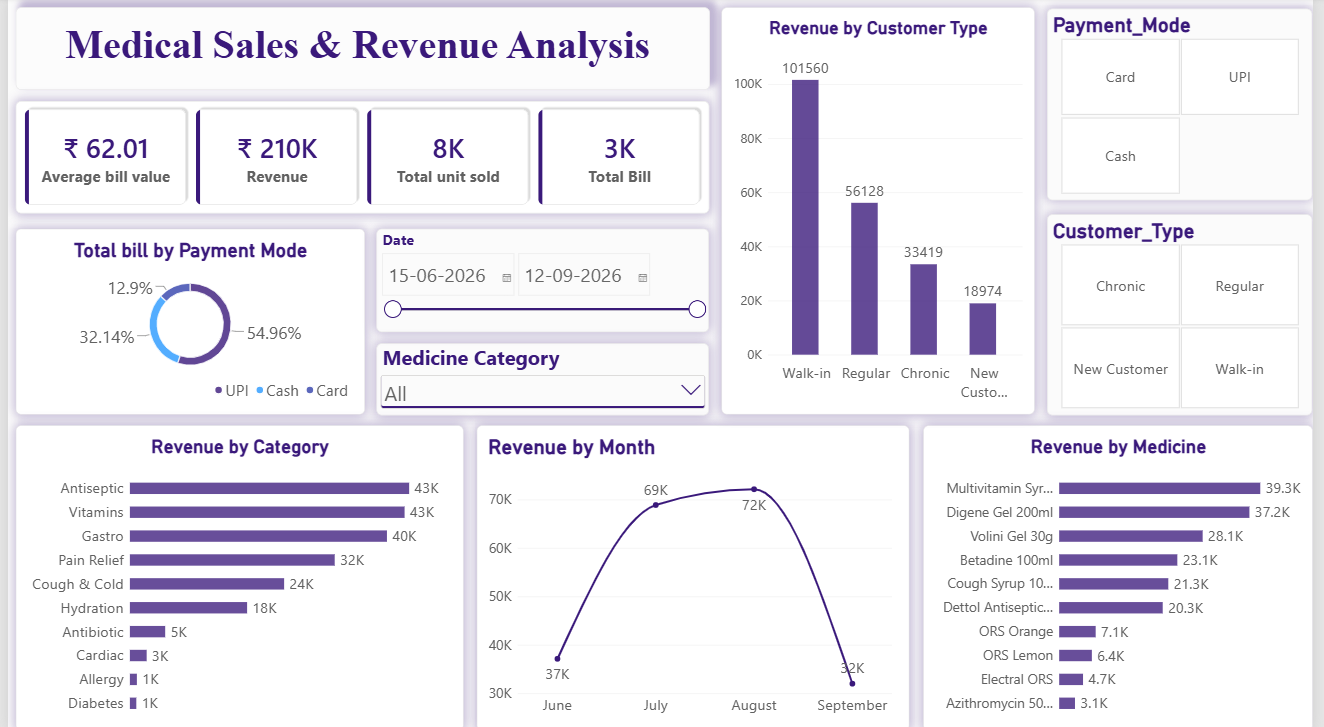

What the dashboard file says about the page in this screenshot:
{"tool":"powerbi","page":{"name":"Page 1","canvas":[1920,1080],"ordinal":0},"visuals":[{"type":"textbox","box":[11,15.4,1021.3,121.1],"z":0},{"type":"cardVisual","fields":{"Data":["public medicaldata.Average bill value","public medicaldata.Revenue","public medicaldata.total unit sold","public medicaldata.Total bills"]},"box":[11,154.3,1020.3,165.3],"z":1000},{"type":"slicer","fields":{"Values":["public medicaldata.Category"]},"box":[542.1,509.1,489.2,105.8],"z":2000},{"type":"slicer","fields":{"Values":["public medicaldata.Customer_Type"]},"box":[1529.4,319.5,390.1,295.3],"z":3000},{"type":"slicer","fields":{"Values":["public medicaldata.Payment_Mode"]},"box":[1529.4,17.6,390.1,282.1],"z":4000},{"type":"barChart","title":"Revenue by Medicine","fields":{"Category":["public medicaldata.Medicine_Name"],"Y":["public medicaldata.Revenue"]},"box":[1346.5,630.3,573,449.6],"z":5000},{"type":"lineChart","title":"Revenue by Month","fields":{"Category":["public medicaldata.Month"],"Y":["public medicaldata.Revenue"]},"box":[689.8,630.3,636.9,449.6],"z":6000},{"type":"donutChart","title":"Total bill by Payment Mode","fields":{"Category":["public medicaldata.Payment_Mode"],"Y":["public medicaldata.Total bills"]},"box":[11,341.6,513.5,273.3],"z":7000},{"type":"columnChart","title":"Revenue by Customer Type","fields":{"Category":["public medicaldata.Customer_Type"],"Y":["public medicaldata.Revenue"]},"box":[1051.2,15.4,460.6,599.4],"z":8000},{"type":"barChart","fields":{"Category":["public medicaldata.Category"],"Y":["public medicaldata.Revenue"]},"box":[11,630.3,658.9,449.6],"z":9000},{"type":"slicer","fields":{"Values":["public medicaldata.date_only"]},"box":[542.1,341.6,489.2,152.1],"z":10000}]}

Visuals, with their boxes in screenshot pixels (x1, y1, x2, y2), scaled from the page's 1920x1080 canvas onto the 1324x727 screenshot:
textbox: region(8, 10, 712, 92)
cardVisual - public medicaldata.Average bill value x public medicaldata.Revenue: region(8, 104, 711, 215)
slicer - public medicaldata.Category: region(374, 343, 711, 414)
slicer - public medicaldata.Customer_Type: region(1055, 215, 1323, 414)
slicer - public medicaldata.Payment_Mode: region(1055, 12, 1323, 202)
"Revenue by Medicine" barChart: region(929, 424, 1323, 726)
"Revenue by Month" lineChart: region(476, 424, 915, 726)
"Total bill by Payment Mode" donutChart: region(8, 230, 362, 414)
"Revenue by Customer Type" columnChart: region(725, 10, 1043, 414)
barChart - public medicaldata.Category x public medicaldata.Revenue: region(8, 424, 462, 726)
slicer - public medicaldata.date_only: region(374, 230, 711, 332)
